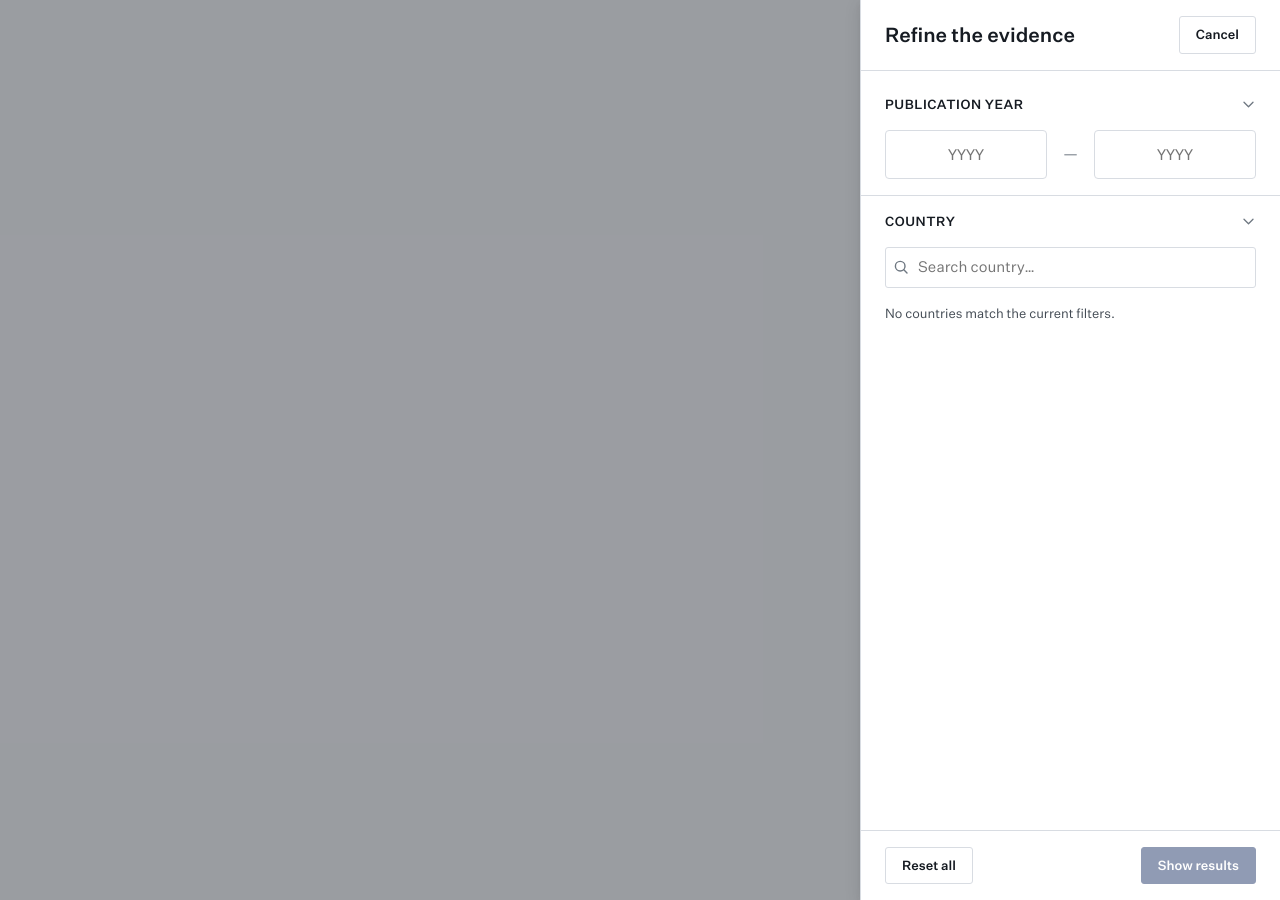
Test: FilterDrawer › year range integration › editing a year enables Show results
Type "1990" into the field named "Start year" at (966, 154), box [885,130,1047,178]
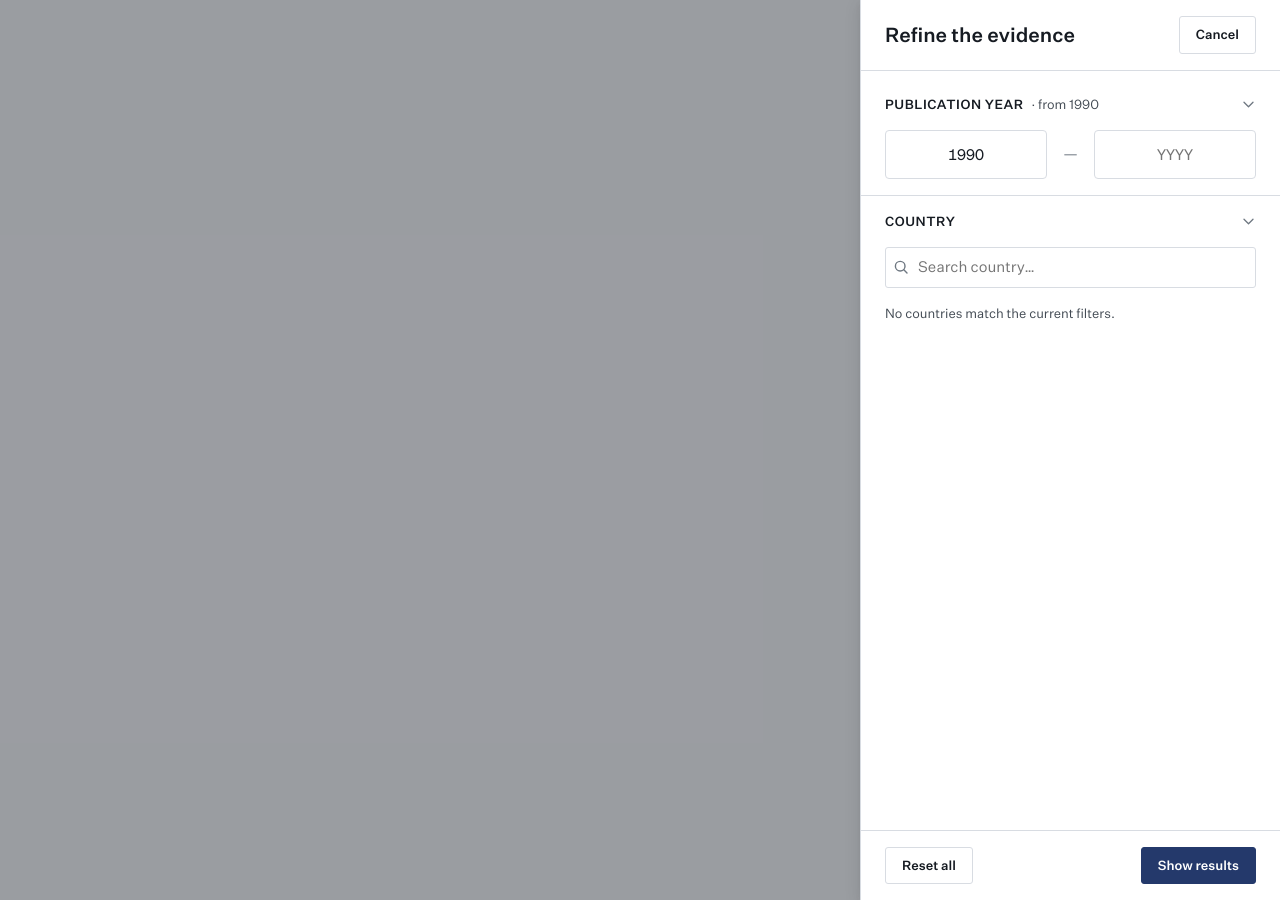
Expected: the button "Show results" is enabled, [1141,846,1256,884]
